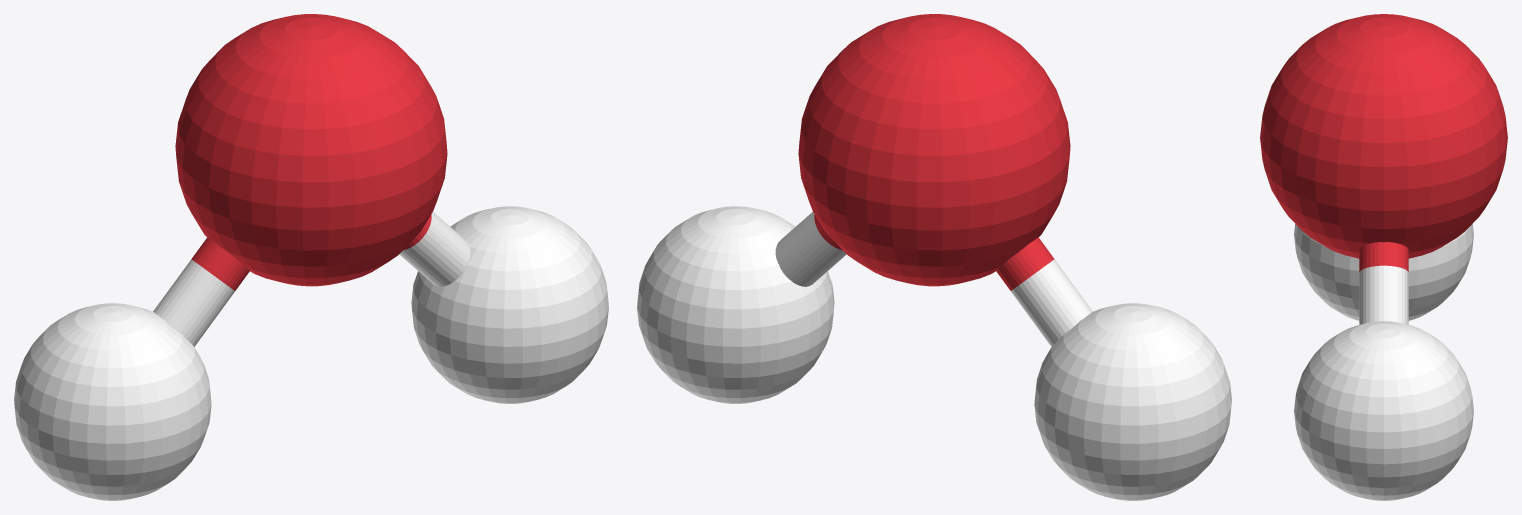
The model's file is water3.glb.
3 views of the same model, side by side, from view 1: azimuth 30°, elevation 25°; view 2: azimuth 150°, elevation 25°; view 3: azimuth 270°, elevation 25° (orthographic). The views are drawn at different scales.
Parts seen in each view (by area): view 1: centerO, leftH, RightH, CylinderL, CylinderR; view 2: centerO, leftH, RightH, CylinderL, CylinderR; view 3: centerO, RightH, leftH, CylinderR.
Boxes of the visible parts, x1=… form: centerO: x1=175, y1=14, x2=447, y2=286; leftH: x1=14, y1=303, x2=211, y2=500; RightH: x1=411, y1=206, x2=608, y2=403; CylinderL: x1=153, y1=237, x2=249, y2=346; CylinderR: x1=399, y1=212, x2=470, y2=286; centerO: x1=798, y1=14, x2=1070, y2=286; leftH: x1=1034, y1=303, x2=1231, y2=500; RightH: x1=637, y1=206, x2=834, y2=403; CylinderL: x1=996, y1=237, x2=1092, y2=346; CylinderR: x1=775, y1=212, x2=846, y2=286; centerO: x1=1260, y1=14, x2=1507, y2=258; RightH: x1=1294, y1=321, x2=1473, y2=500; leftH: x1=1294, y1=224, x2=1473, y2=320; CylinderR: x1=1359, y1=242, x2=1408, y2=324.
Size of the model in its own units: 4.82 by 3.37 by 2.
